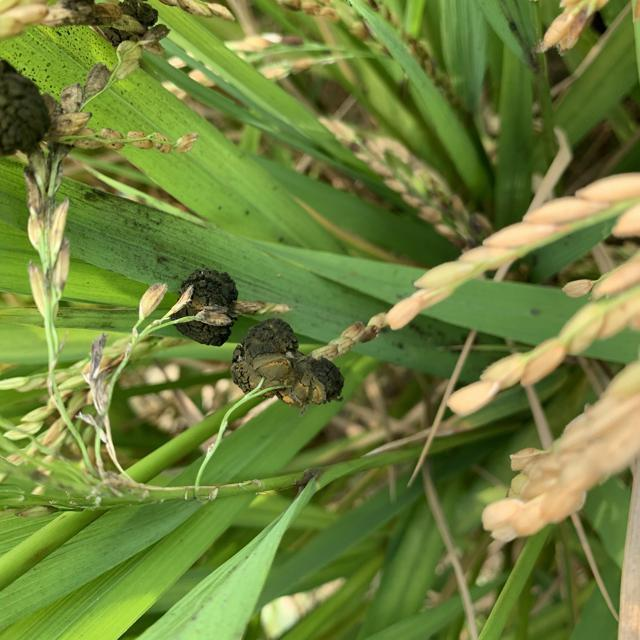Leaf_Scald: (229, 314, 343, 408), (165, 265, 239, 348), (0, 58, 59, 157), (64, 0, 160, 45)
